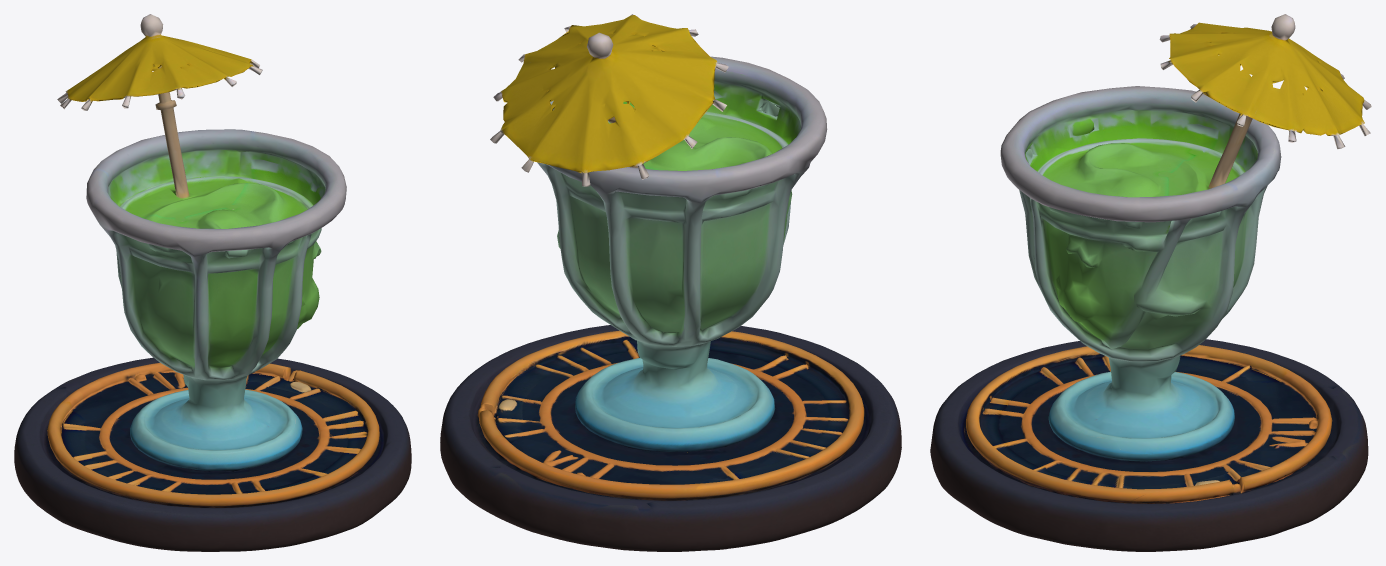
File: free_drink.glb
The picture shows the model from 3 angles, left to right: view 1: azimuth 30°, elevation 25°; view 2: azimuth 150°, elevation 25°; view 3: azimuth 270°, elevation 25°; orthographic projection. The views are drawn at different scales.
Parts seen in each view (by area): view 1: tripo_node_a7d8f03a-977f-4336-b61e-6f4041d2b61d; view 2: tripo_node_a7d8f03a-977f-4336-b61e-6f4041d2b61d; view 3: tripo_node_a7d8f03a-977f-4336-b61e-6f4041d2b61d.
Part boxes in pixels (bbox=[...]): tripo_node_a7d8f03a-977f-4336-b61e-6f4041d2b61d: bbox=[14, 14, 411, 551]; tripo_node_a7d8f03a-977f-4336-b61e-6f4041d2b61d: bbox=[440, 14, 901, 551]; tripo_node_a7d8f03a-977f-4336-b61e-6f4041d2b61d: bbox=[930, 14, 1371, 551].
Size of the model in its own units: 0.8631 by 0.9805 by 0.8763.
1 material, 1 textured.
